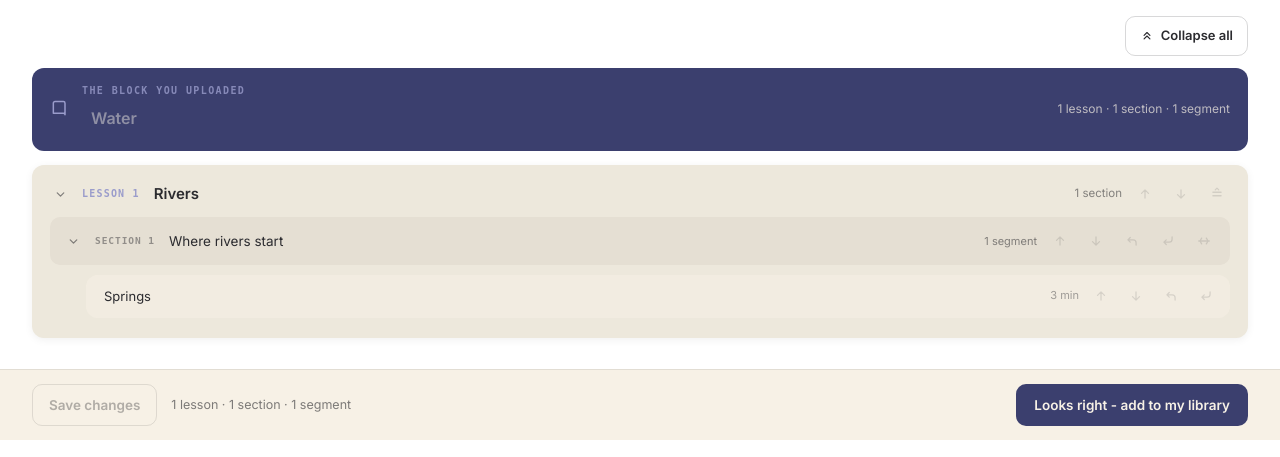
Test: undo › is not offered over changes that are not saved yet
Replace the text in the field named "Lesson 1 title" with "Streams" at (607, 194), box [150,180,1064,207]
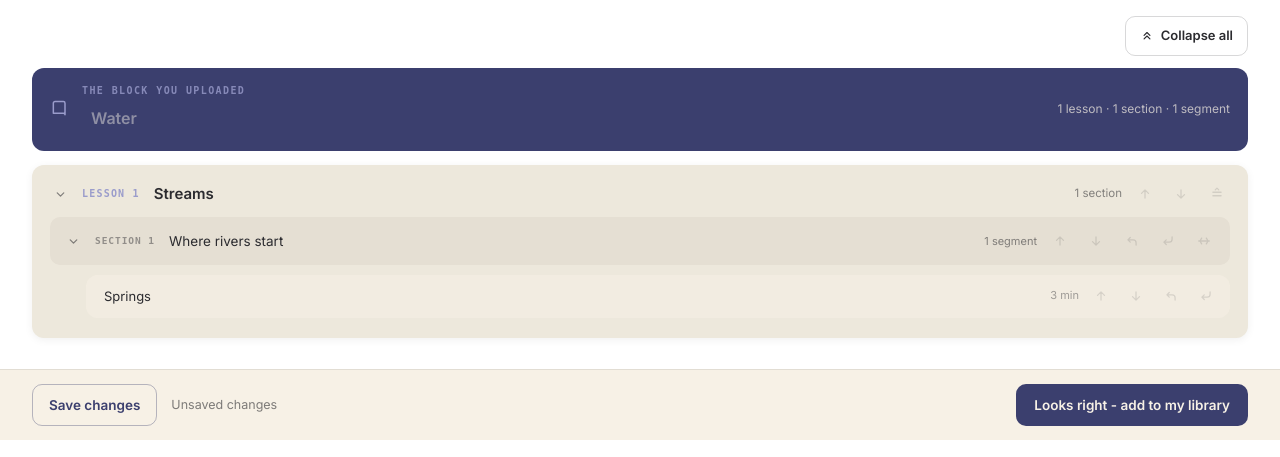
Click the button "Save changes" at (95, 405), box [32,384,157,426]
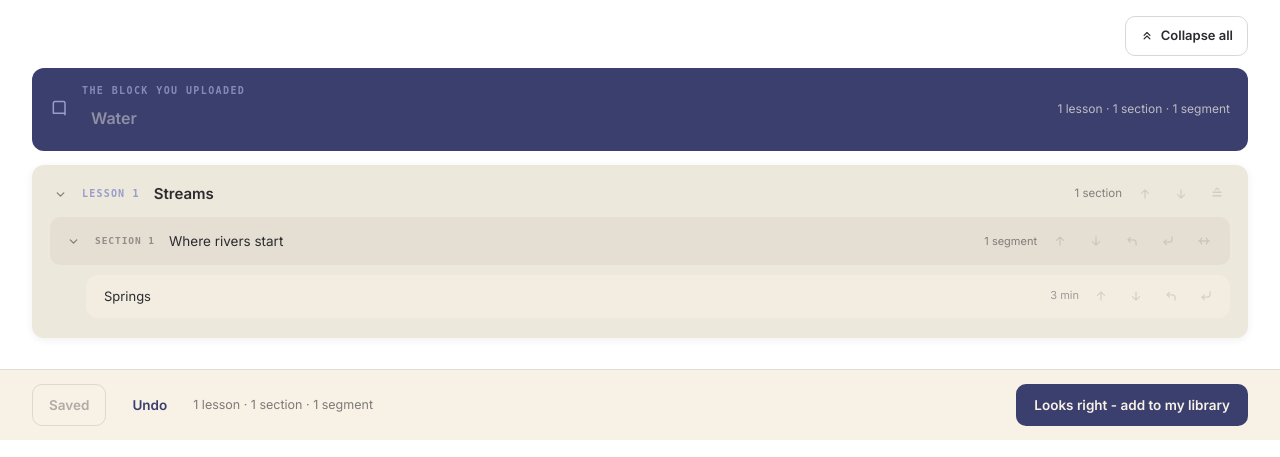
Expected: the button "Saved" is shown, [32,384,106,426]
Replace the text in the field named "Lesson 1 title" with "Streams and rivers" at (607, 194), box [150,180,1064,207]
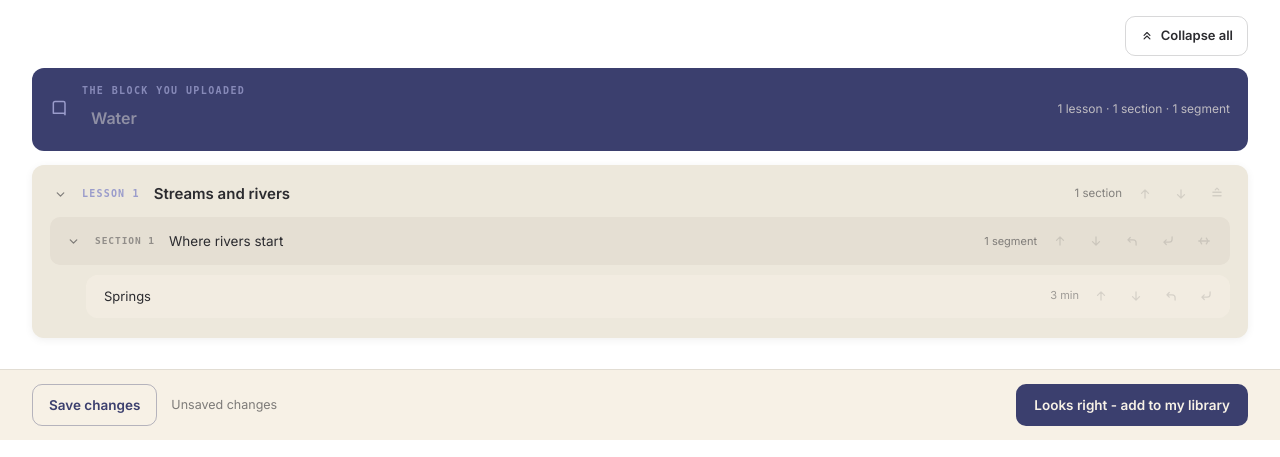
Expected: the button "Undo" is gone
